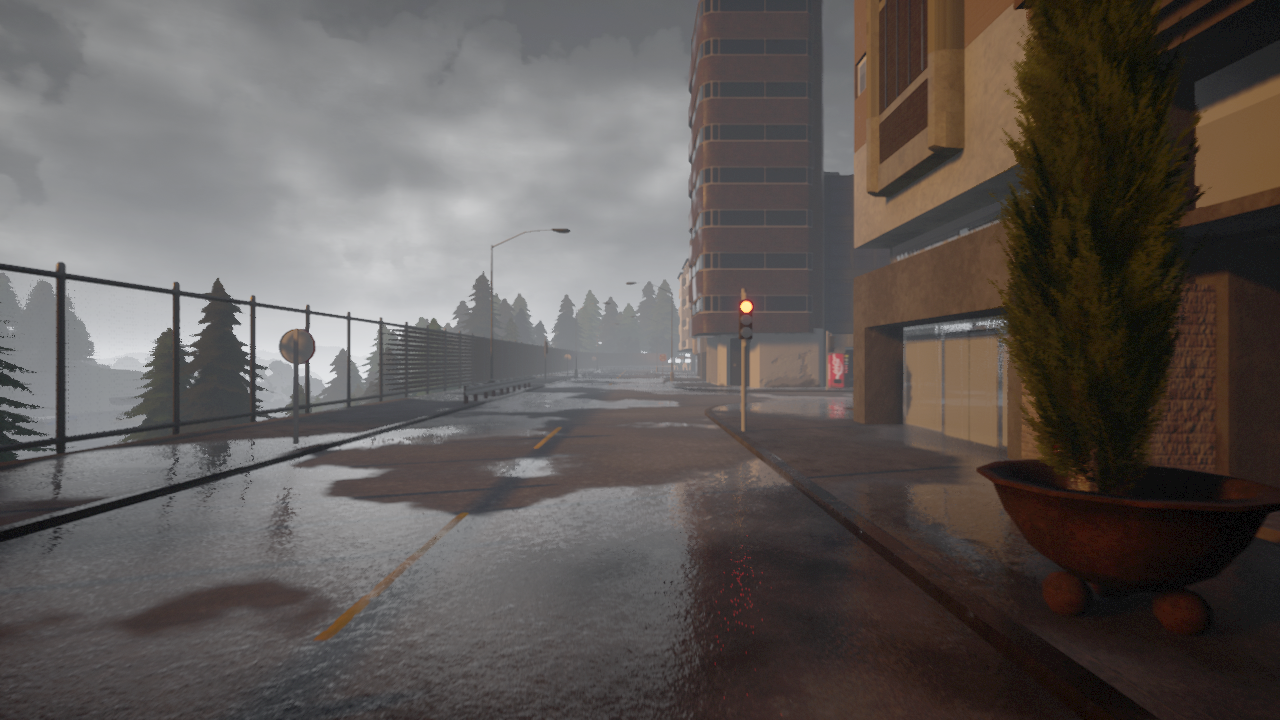red: (737, 297, 754, 340)
